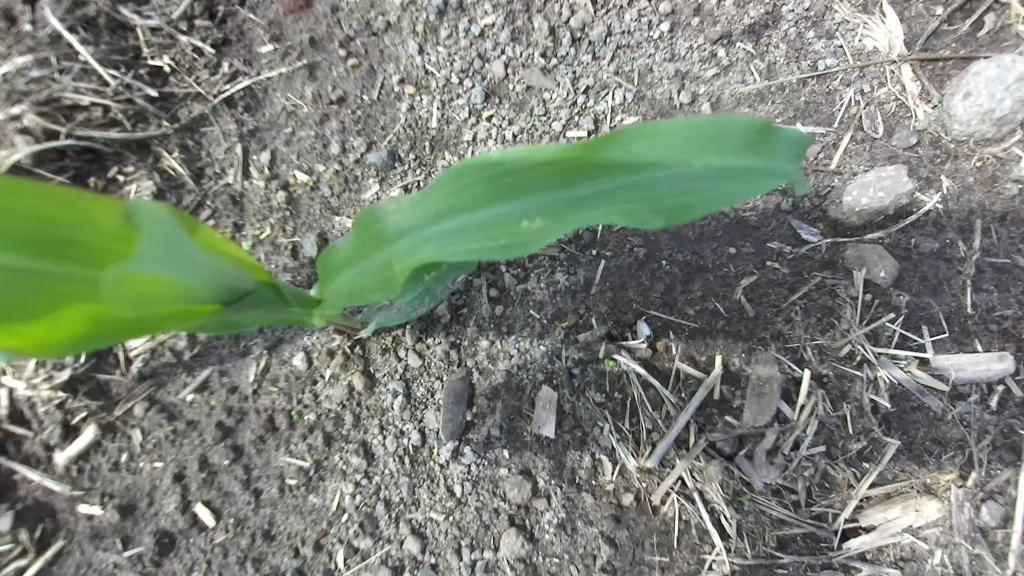BroWeed: (734, 488, 757, 511), (655, 338, 670, 356), (926, 95, 941, 112), (242, 230, 254, 250), (288, 408, 301, 422), (603, 358, 618, 368), (788, 196, 794, 206)
Maize: (0, 104, 827, 363)
